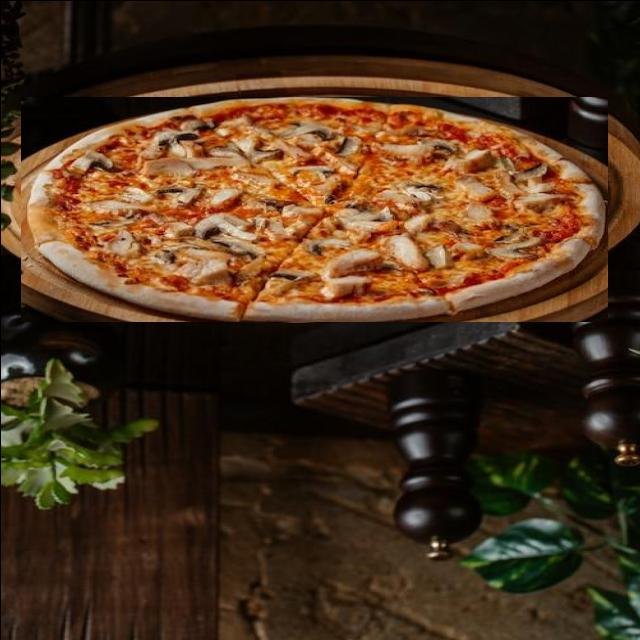pizza: (19, 96, 606, 321)
